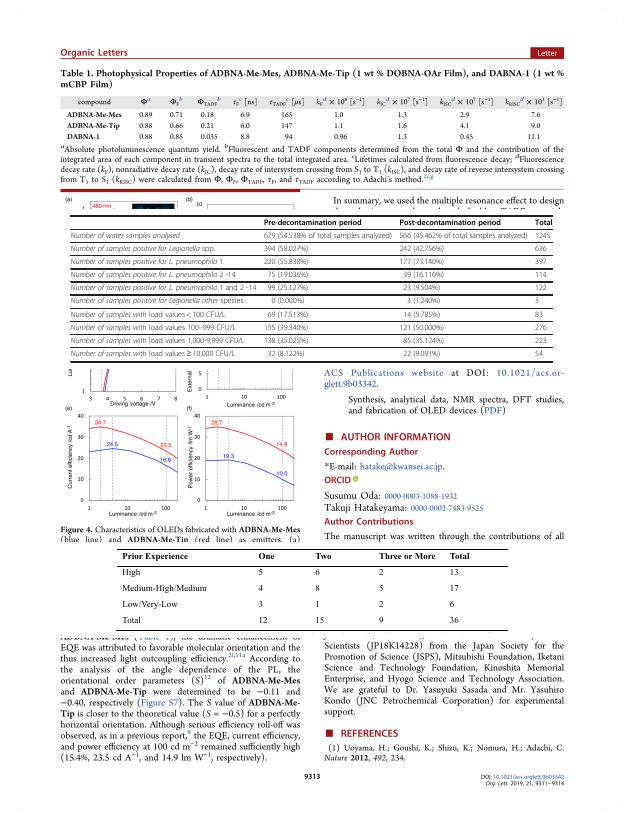borderless: (70, 214, 552, 361), (116, 547, 508, 630)
cell: (70, 336, 246, 346), (70, 284, 257, 293), (70, 323, 237, 333), (70, 270, 236, 280), (70, 349, 236, 359), (70, 297, 244, 306), (70, 257, 224, 267), (70, 244, 216, 254), (70, 310, 226, 319), (263, 231, 393, 241), (398, 231, 528, 241), (70, 231, 181, 241), (398, 218, 502, 227), (263, 218, 362, 227), (121, 584, 207, 594), (121, 551, 188, 561), (377, 551, 436, 561), (121, 600, 178, 610), (398, 244, 445, 254), (398, 257, 445, 267), (398, 323, 445, 333), (263, 244, 309, 254), (263, 257, 309, 267), (263, 323, 309, 333), (263, 336, 309, 346), (402, 270, 445, 280), (402, 336, 445, 346), (267, 270, 309, 280), (402, 349, 441, 359), (267, 349, 305, 359), (267, 284, 309, 293), (267, 310, 309, 319), (402, 284, 441, 293), (402, 310, 441, 319), (270, 297, 305, 306), (406, 297, 441, 306), (448, 551, 470, 561), (121, 568, 141, 578), (121, 616, 141, 626), (257, 551, 275, 561), (314, 551, 332, 561), (534, 218, 553, 227), (534, 231, 551, 241), (534, 244, 548, 254), (534, 257, 548, 267), (534, 270, 548, 280), (534, 323, 548, 333), (534, 336, 548, 346), (534, 284, 548, 293), (448, 568, 459, 578), (448, 584, 459, 594), (257, 616, 268, 626), (314, 616, 325, 626), (448, 616, 459, 626), (534, 349, 544, 359), (534, 310, 544, 319), (377, 568, 384, 578), (377, 584, 384, 594), (377, 600, 384, 610), (448, 600, 455, 610), (377, 616, 384, 626), (257, 568, 263, 578), (314, 568, 320, 578), (257, 584, 263, 594), (314, 584, 320, 594), (257, 600, 263, 610), (314, 600, 320, 610), (534, 297, 540, 306)
